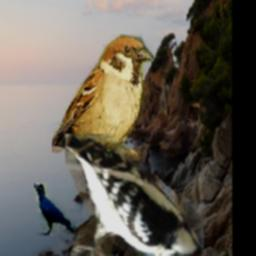Crow: (33, 183, 76, 235)
Sparrow: (52, 35, 154, 162)
Woodpecker: (64, 134, 203, 256)
